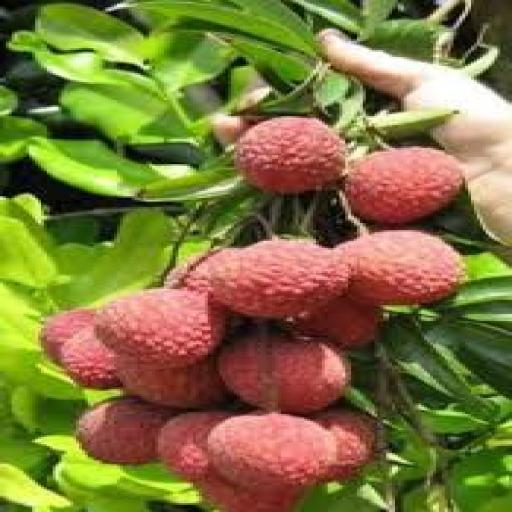lychee: (220, 332, 351, 413), (211, 240, 348, 317), (208, 413, 336, 492), (97, 290, 225, 367), (337, 231, 465, 305), (346, 147, 462, 224), (235, 116, 345, 194), (77, 398, 172, 465), (118, 357, 225, 408), (158, 411, 234, 481), (314, 411, 377, 481), (296, 297, 383, 347), (199, 475, 304, 511), (62, 327, 119, 388), (41, 309, 96, 363), (164, 250, 228, 292)
